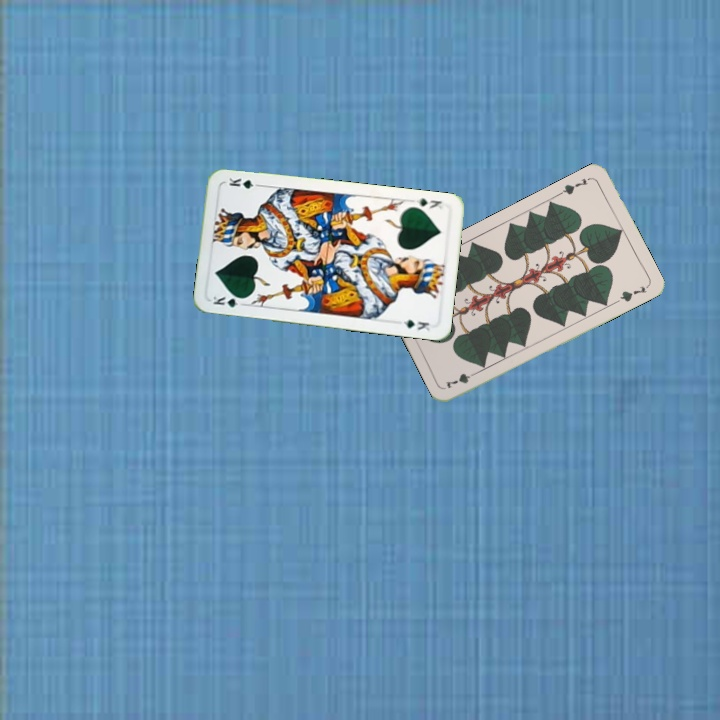G7: (441, 367, 481, 391), (556, 173, 594, 197)
GK: (209, 292, 248, 310), (411, 194, 445, 212)
